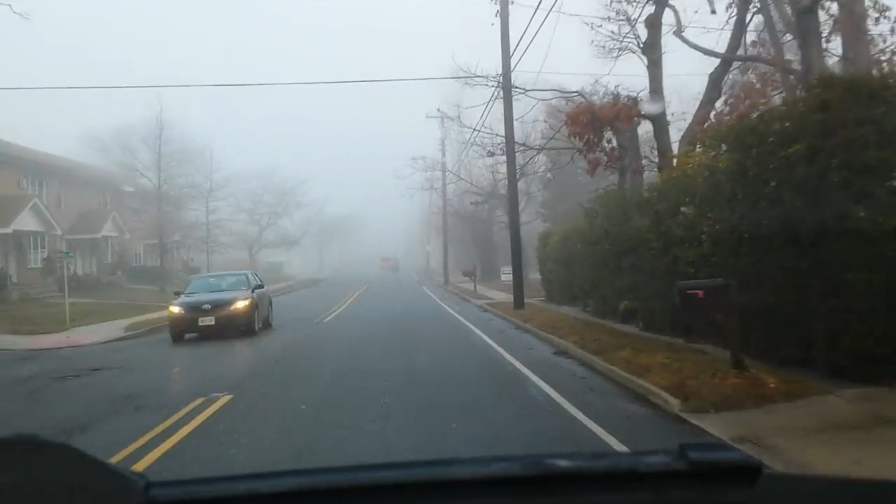car: (165, 270, 273, 342)
